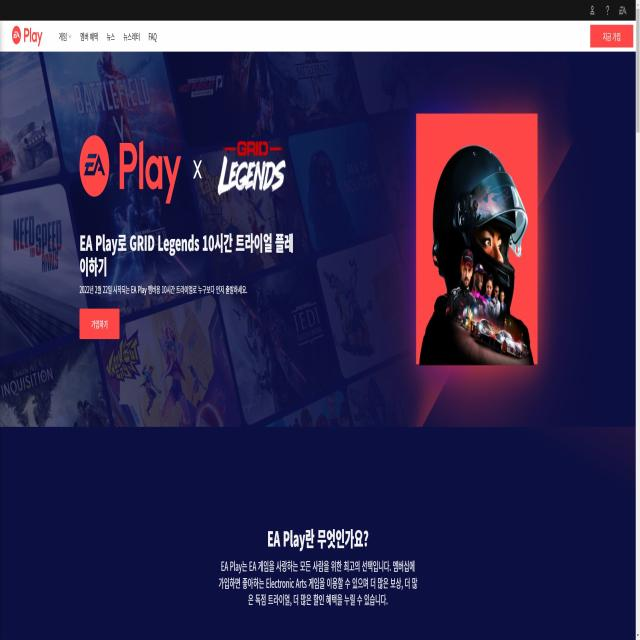menu-bar: (588, 1, 630, 18)
tab-bar: (10, 22, 157, 47)
